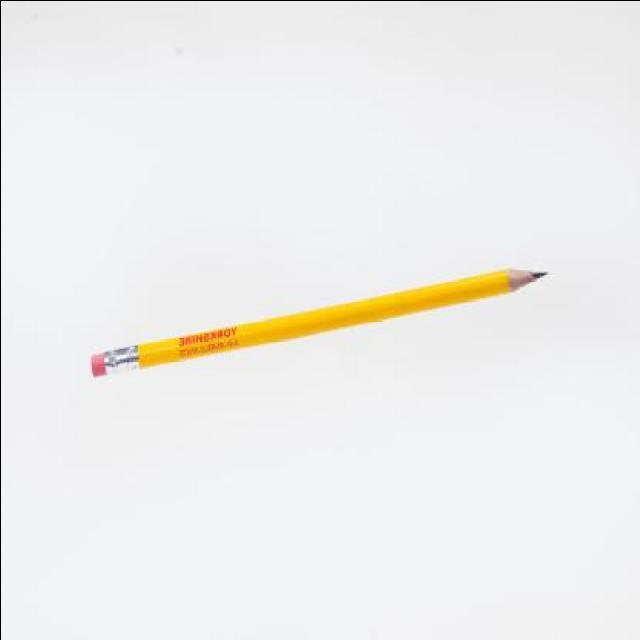pencil: (466, 256, 550, 304)
